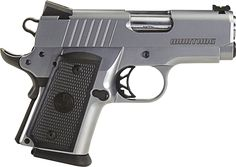gun: (1, 1, 235, 167)
